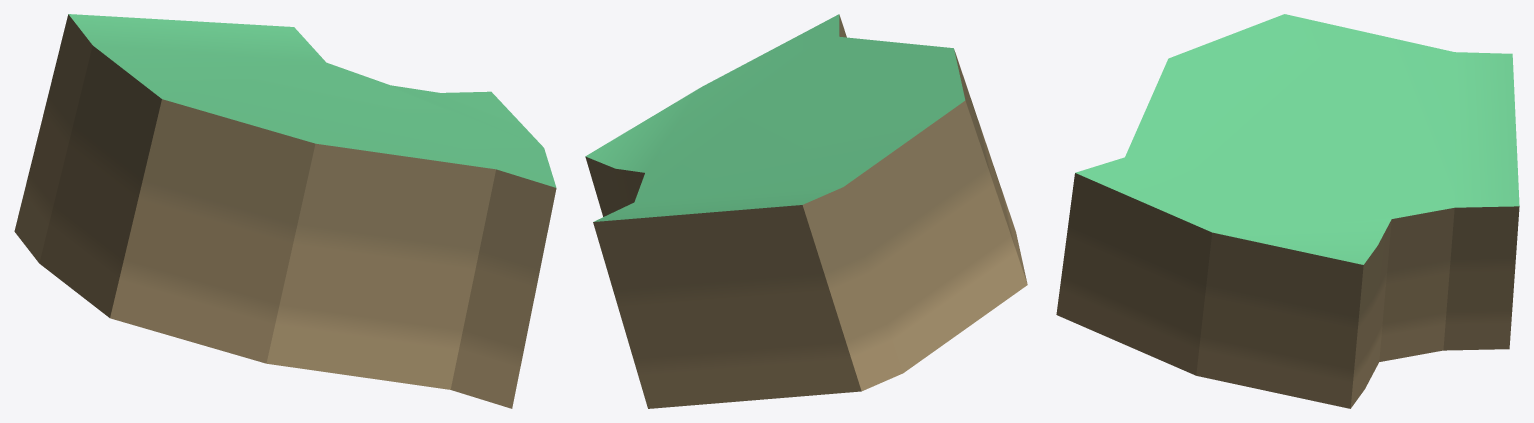
File: 063c_Gabon.glb
The picture shows the model from 3 angles, left to right: view 1: azimuth 30°, elevation 25°; view 2: azimuth 150°, elevation 25°; view 3: azimuth 270°, elevation 25°; orthographic projection. The views are drawn at different scales.
Parts seen in each view (by area): view 1: part_0; view 2: part_0; view 3: part_0.
Part boxes in pixels (x1,y1,x2,y2): part_0: (14, 14, 556, 408); part_0: (585, 14, 1027, 408); part_0: (1056, 14, 1519, 408).
Bounding box in the file's own units: 0.4397 × 0.3068 × 0.4871.
1 material, 1 textured.
